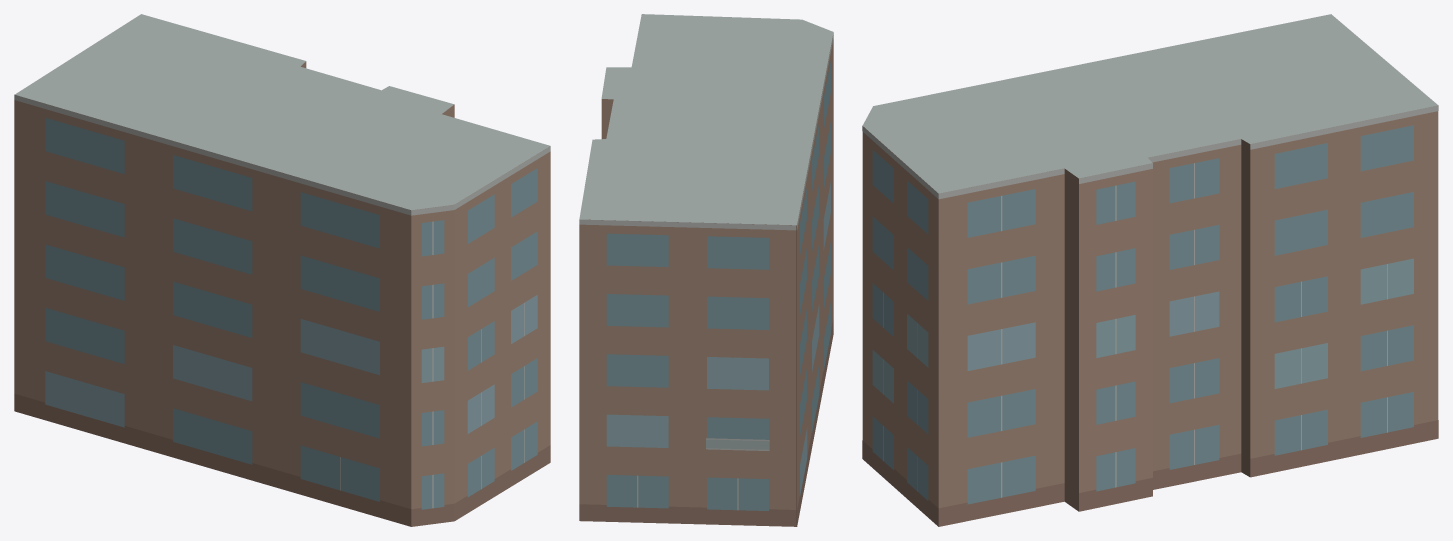
The model's file is survey-upis-32703747.glb.
3 views of the same model, side by side, from view 1: azimuth 30°, elevation 25°; view 2: azimuth 150°, elevation 25°; view 3: azimuth 270°, elevation 25° (orthographic). The views are drawn at different scales.
Visible parts, largest first — view 1: survey-upis-32703747.tmp; view 2: survey-upis-32703747.tmp; view 3: survey-upis-32703747.tmp.
Part boxes in pixels (<box>): survey-upis-32703747.tmp: <box>14,14,550,526</box>; survey-upis-32703747.tmp: <box>579,14,833,526</box>; survey-upis-32703747.tmp: <box>862,14,1438,526</box>.
Bounding box in the file's own units: 16.54 × 14.3 × 22.41.
